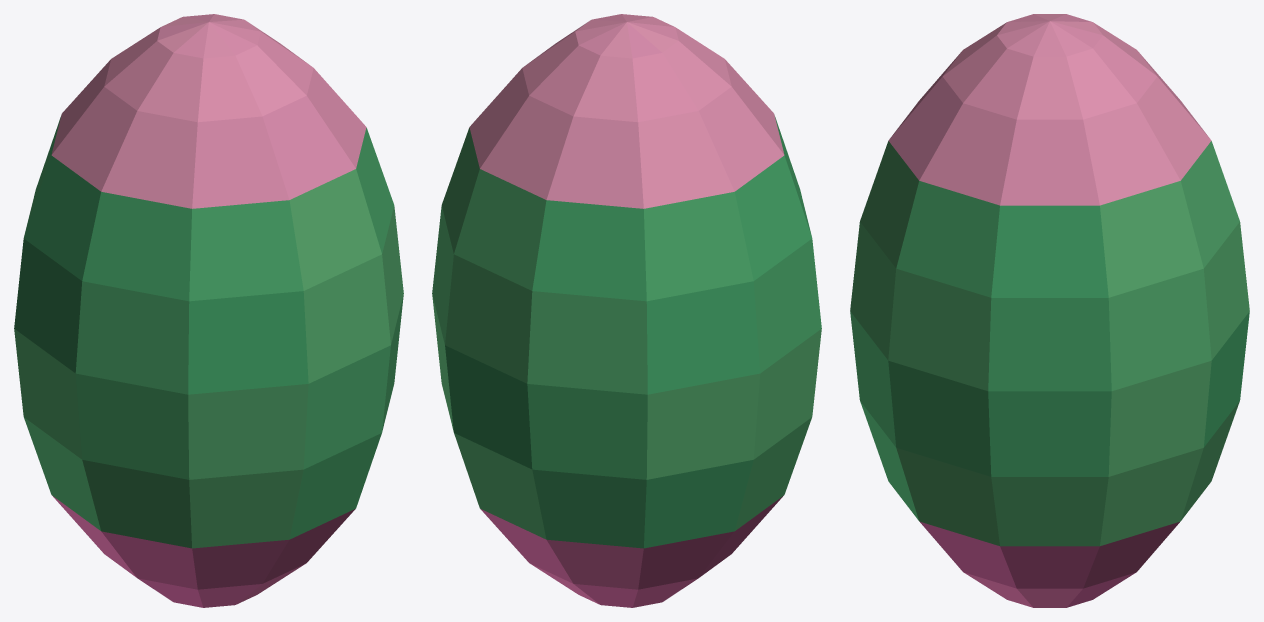
File: Pitaya.glb
The picture shows the model from 3 angles, left to right: view 1: azimuth 30°, elevation 25°; view 2: azimuth 150°, elevation 25°; view 3: azimuth 270°, elevation 25°; orthographic projection.
Parts seen in each view (by area): view 1: Dragonfruit; view 2: Dragonfruit; view 3: Dragonfruit.
Boxes of the visible parts, x1,y1,x2,y2 form: Dragonfruit: [14, 14, 403, 607]; Dragonfruit: [432, 14, 821, 607]; Dragonfruit: [850, 14, 1249, 607].
Bounding box in the file's own units: 0.3043 × 0.512 × 0.32.
